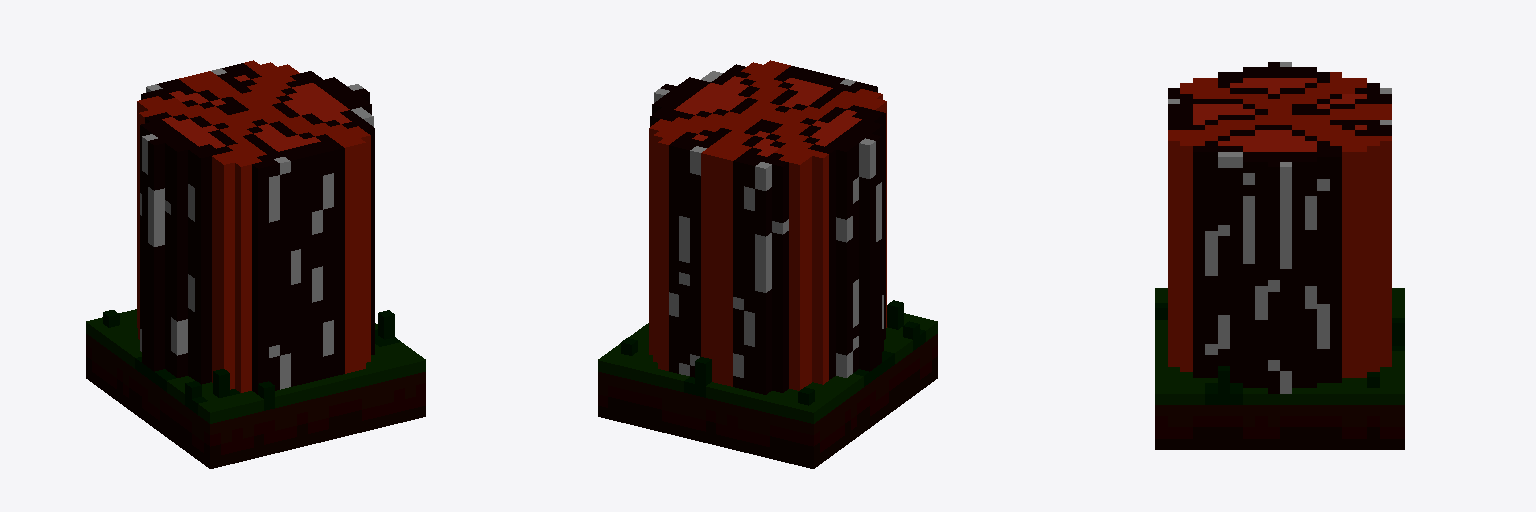
The model's file is ironwood.obj.
The picture shows the model from 3 angles: view 1: azimuth 30°, elevation 25°; view 2: azimuth 150°, elevation 25°; view 3: azimuth 270°, elevation 25°; orthographic projection.
Parts seen in each view (by area): view 1: ironwood; view 2: ironwood; view 3: ironwood.
Boxes of the visible parts, <box> form: ironwood: <box>86,60,425,468</box>; ironwood: <box>598,60,937,468</box>; ironwood: <box>1155,62,1404,449</box>.
Size of the model in its own units: 1 by 1.25 by 1.